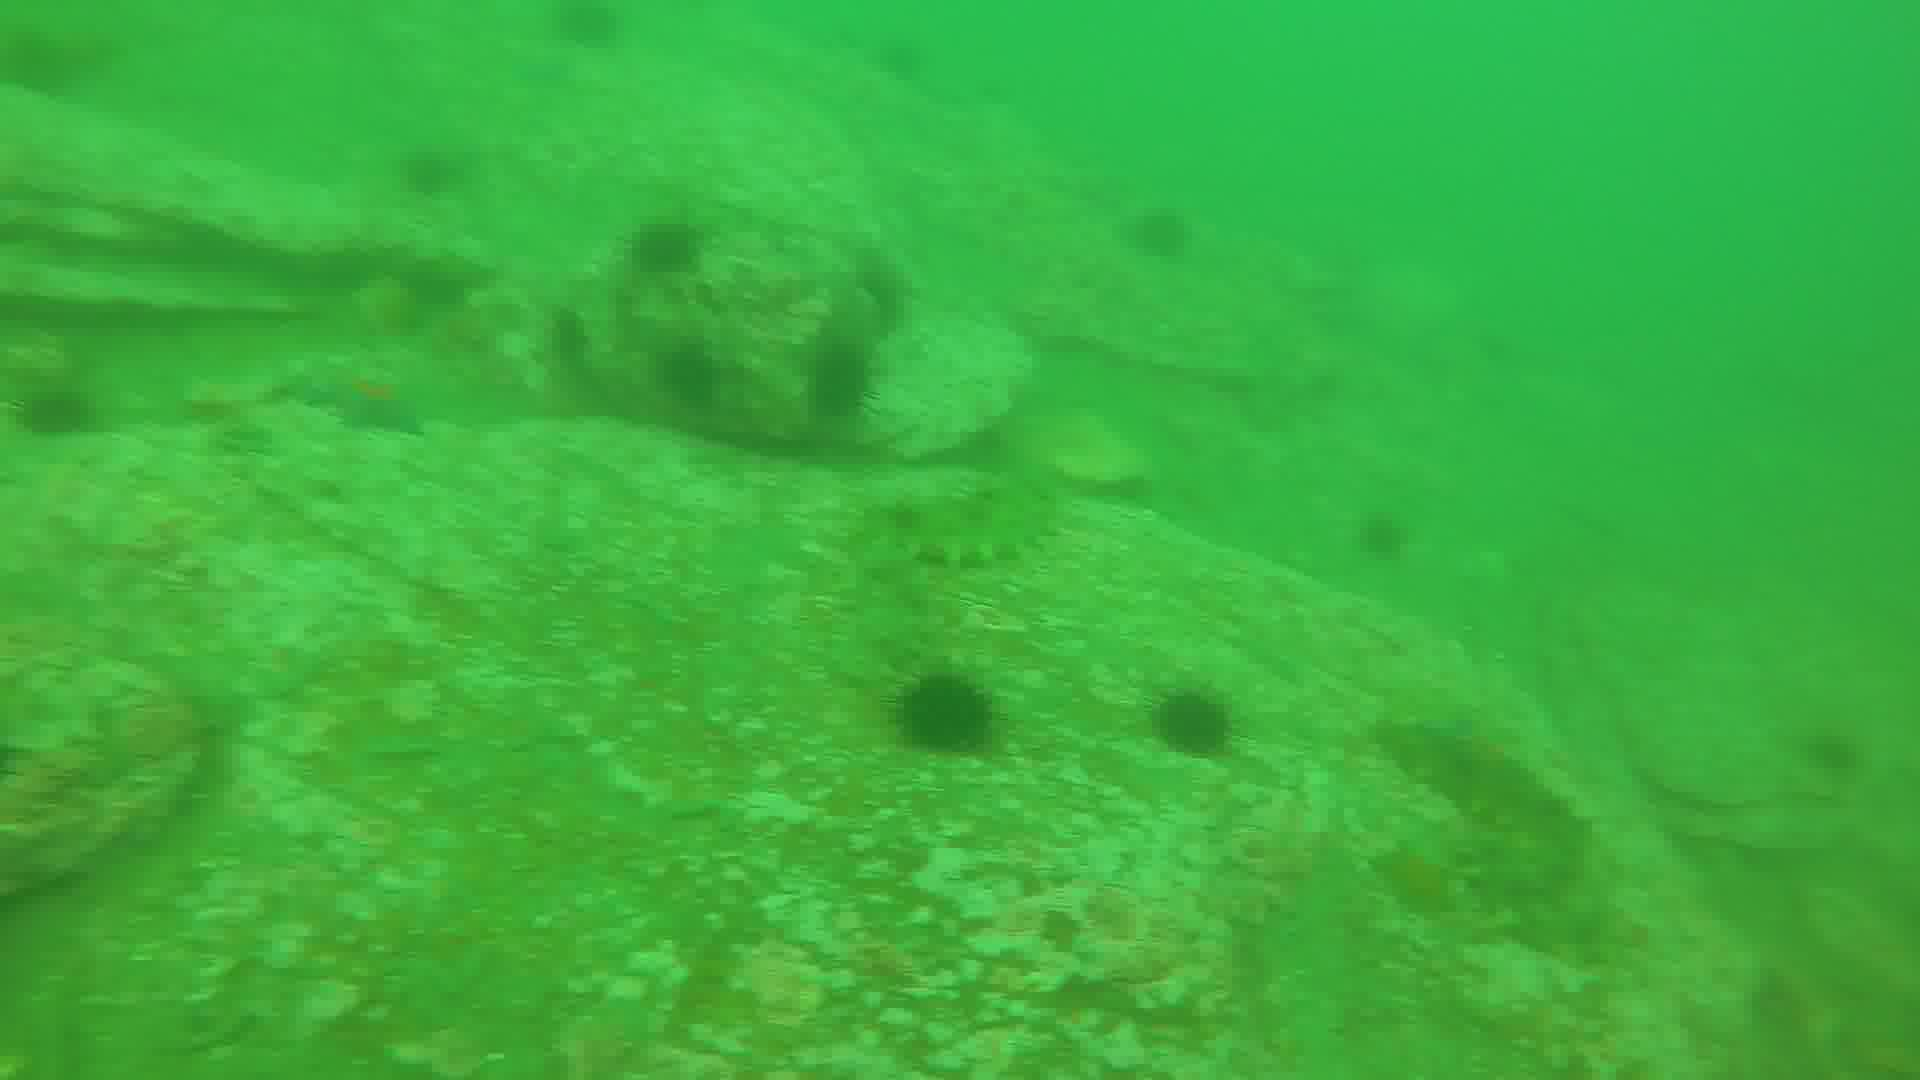echinus: (893, 674, 996, 761), (1153, 682, 1234, 760), (810, 324, 876, 421), (634, 215, 715, 282), (657, 338, 725, 407), (398, 135, 458, 200), (32, 378, 84, 444), (1134, 196, 1184, 258), (1356, 513, 1415, 556)
holothurian: (1375, 708, 1596, 936), (876, 480, 1052, 568)
starfish: (301, 373, 429, 439)
